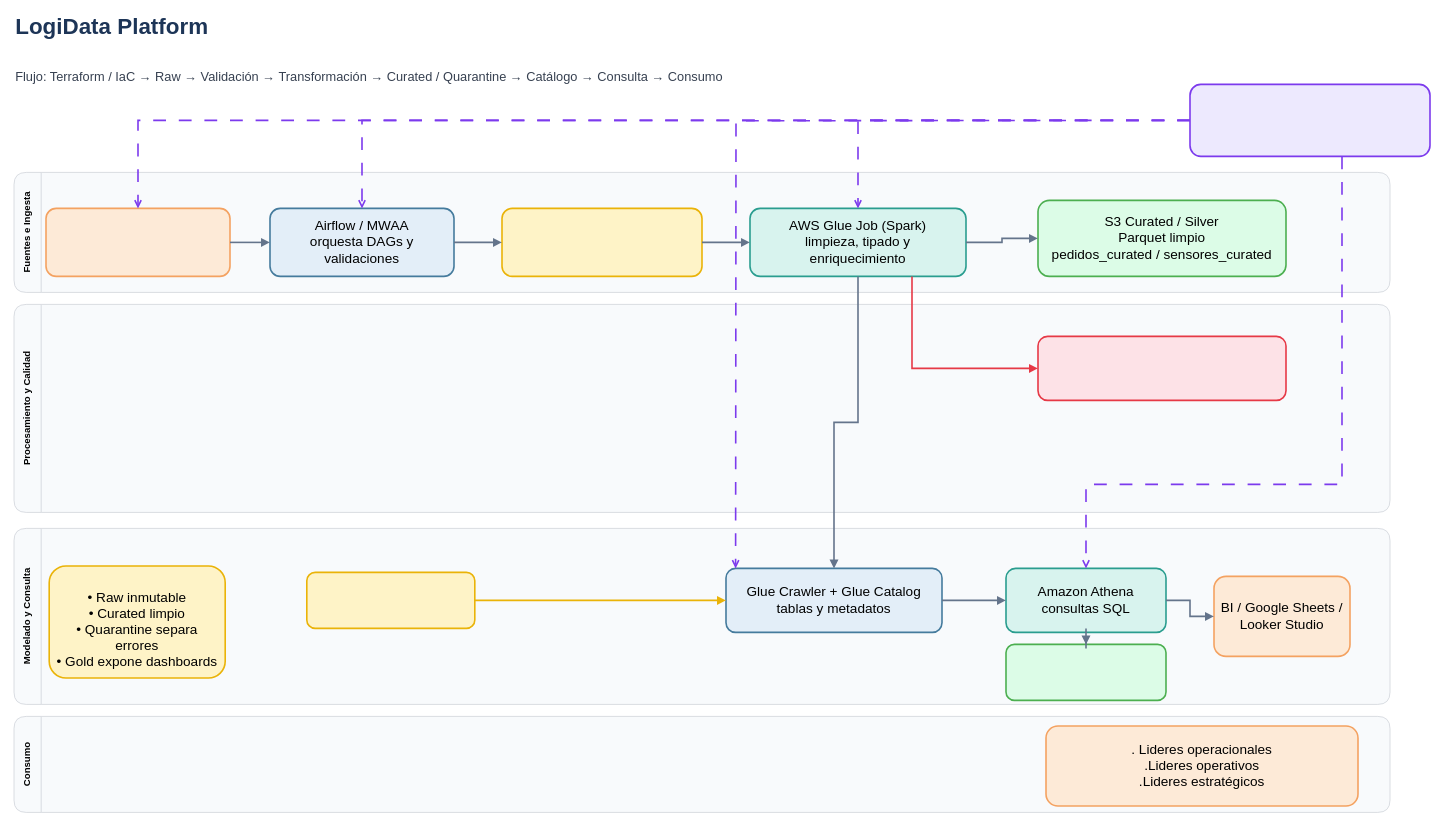
The diagram is 1445 pixels wide and 826 high, and some of its shapes have lost their labels. The centre of each missing label's shape, as x and y in pixels:
"Capa Gold lógica views de negocio y KPIs" belongs at [1085,672].
"CloudWatch Logs y debugging" belongs at [390,600].
"S3 Quarantine errores de calidad y registros inválidos" belongs at [1161,368].
"S3 Raw / Bronze CSV crudos de pedidos, clientes, catálogo y sensores" belongs at [137,242].
"Terraform / IaC provisiona S3, Glue, Athena, IAM, MWAA y outputs" belongs at [1309,120].
"Validación inicial y de esquema archivos + columnas obligatorias" belongs at [601,242].
